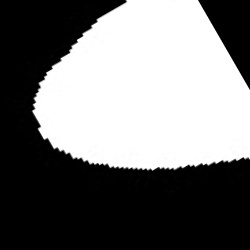spot: (35, 2, 248, 172)
